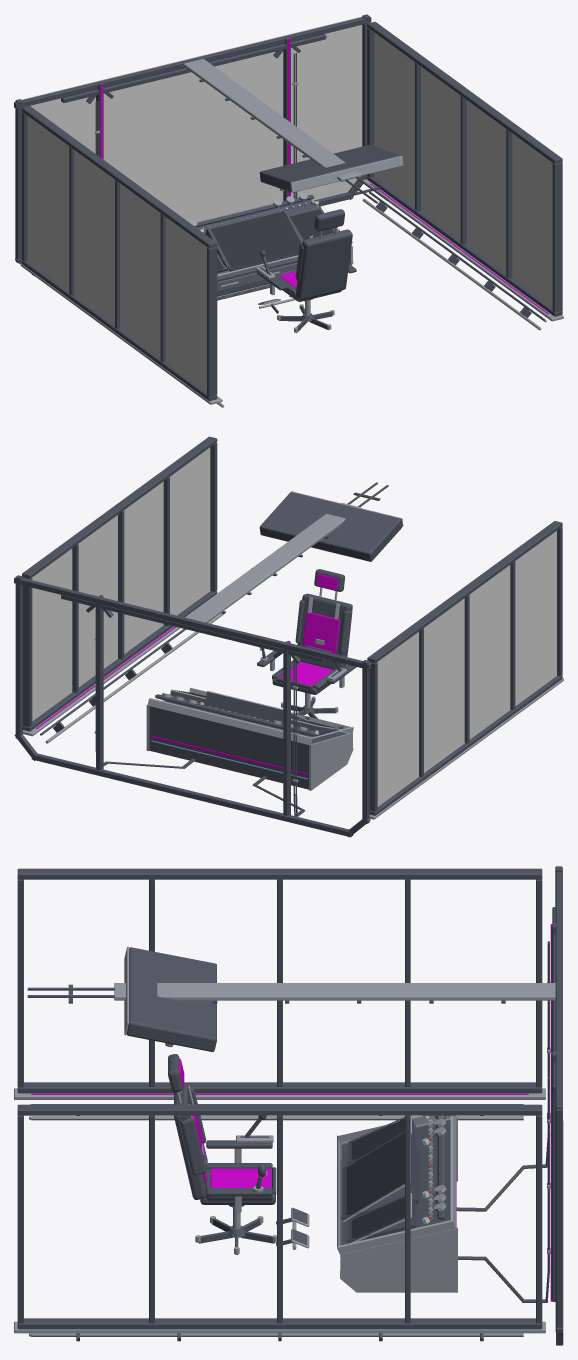
The model's file is cockpit_wide.glb.
The picture shows the model from 3 angles, top to bottom: view 1: azimuth 30°, elevation 25°; view 2: azimuth 150°, elevation 25°; view 3: azimuth 270°, elevation 25°; orthographic projection. The views are drawn at different scales.
Visible parts, largest first — view 1: Glass, Frames_Struct, Details_Struct, Console_Struct, Seat_Hull, Details_Hull, Console_Hull, Seat_Struct; view 2: Glass, Frames_Struct, Console_Hull, Details_Struct, Details_Hull, Seat_Hull, Console_Struct, Seat_Struct; view 3: Frames_Struct, Details_Struct, Console_Hull, Console_Struct, Details_Hull, Seat_Hull, Seat_Struct.
Boxes of the visible parts, x1,y1,x2,y2 form: Glass: [15, 16, 552, 391]; Frames_Struct: [14, 14, 563, 404]; Details_Struct: [94, 53, 546, 407]; Console_Struct: [189, 193, 334, 300]; Seat_Hull: [257, 209, 356, 301]; Details_Hull: [259, 145, 403, 192]; Console_Hull: [196, 194, 353, 300]; Seat_Struct: [255, 227, 337, 332]; Glass: [32, 447, 556, 806]; Frames_Struct: [14, 436, 563, 837]; Console_Hull: [146, 687, 353, 790]; Details_Struct: [40, 482, 388, 816]; Details_Hull: [259, 491, 403, 561]; Seat_Hull: [257, 569, 356, 694]; Console_Struct: [161, 689, 343, 736]; Seat_Struct: [260, 587, 346, 718]; Frames_Struct: [14, 866, 563, 1345]; Details_Struct: [27, 941, 555, 1341]; Console_Hull: [337, 1115, 457, 1292]; Console_Struct: [340, 1115, 446, 1243]; Details_Hull: [124, 946, 216, 1051]; Seat_Hull: [168, 1054, 276, 1204]; Seat_Struct: [176, 1091, 309, 1254].
Size of the model in its own units: 7.97 by 3.88 by 7.63.
